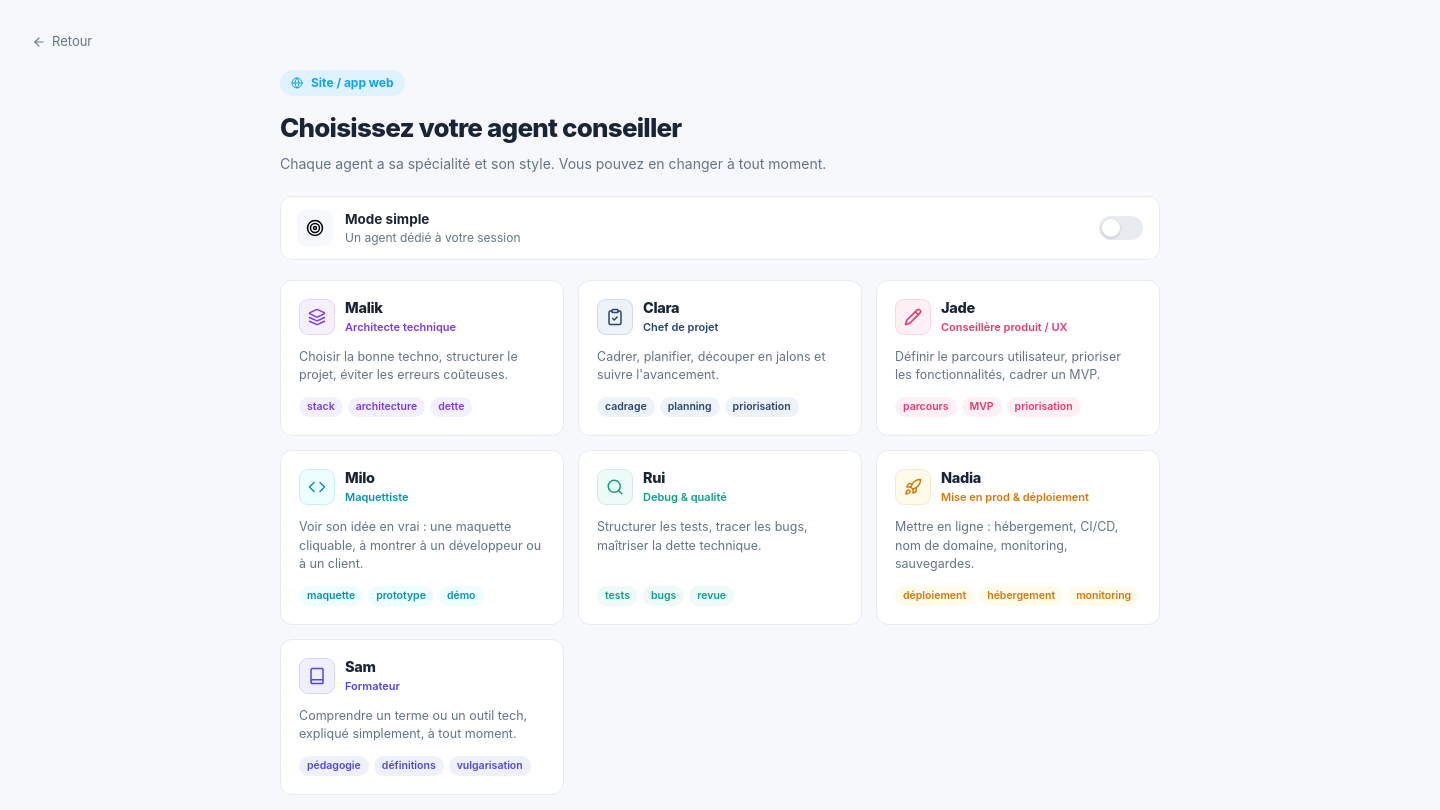
Test case: AgentSelector — mode panel › le toggle bascule l'en-tête en mode panel
Click the 2nd button at (1121, 228), box [1099,216,1143,240]
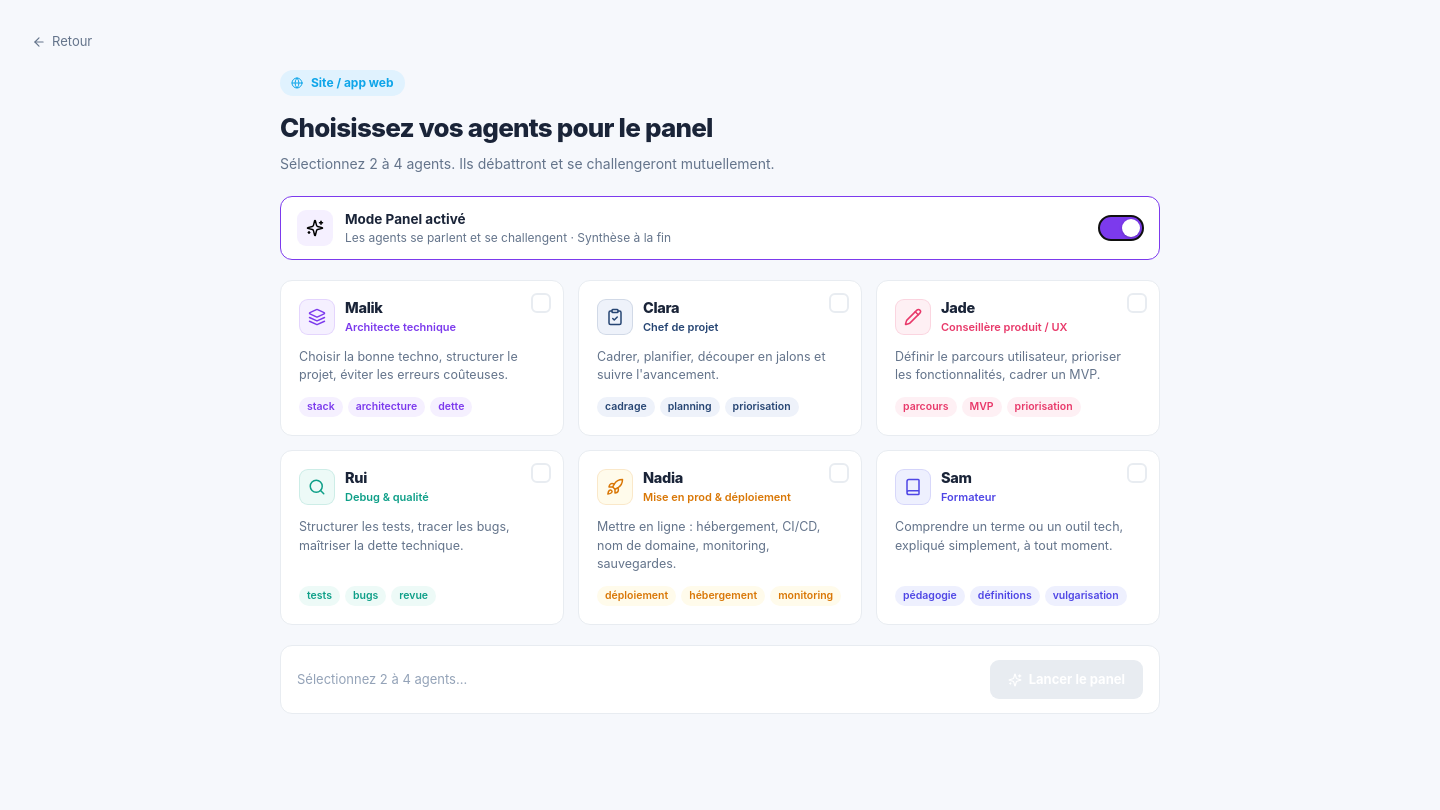
Result: the heading "Choisissez vos agents pour le panel" is shown at [280,112,713,142]
